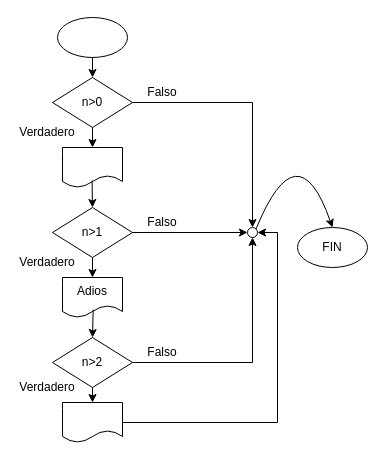
Some shapes in this 385 by 460 pixel diagram are drawn without their labels. The box of each missing label's shape, as (x1, y1, x2, y2) in pixels:
Hasta luego: (62, 402, 122, 442)
Hola: (62, 146, 122, 188)
INICIO: (56, 16, 128, 58)
